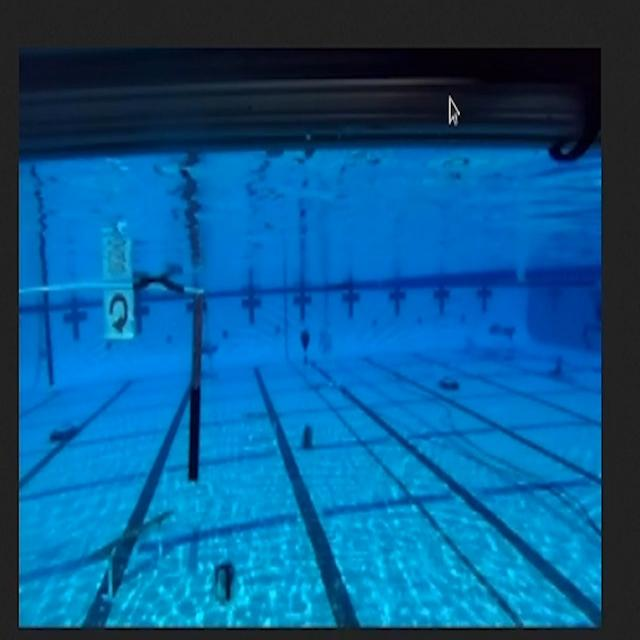Gate: (16, 262, 211, 499)
Path: (85, 505, 184, 610)
